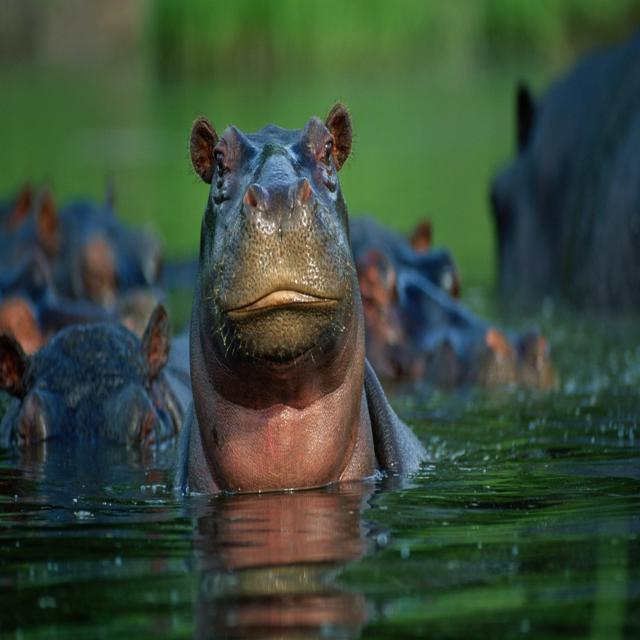Hippopotamus: (176, 103, 396, 502)
